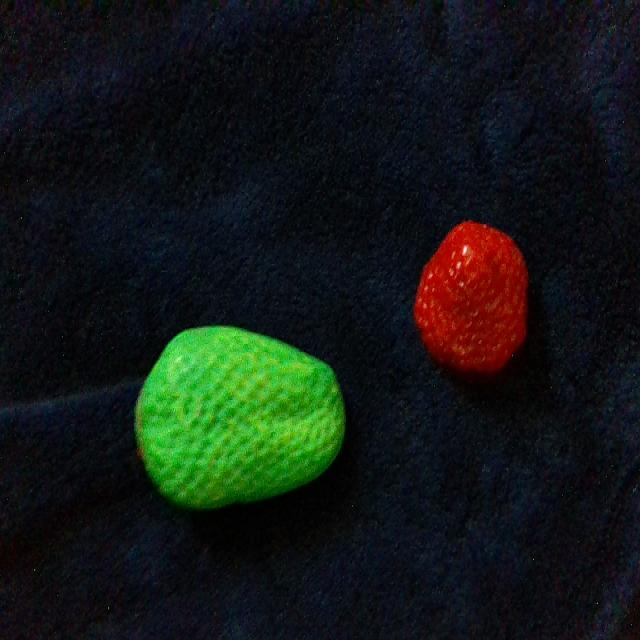chica_roja: (414, 221, 525, 372)
verde: (136, 327, 344, 508)
